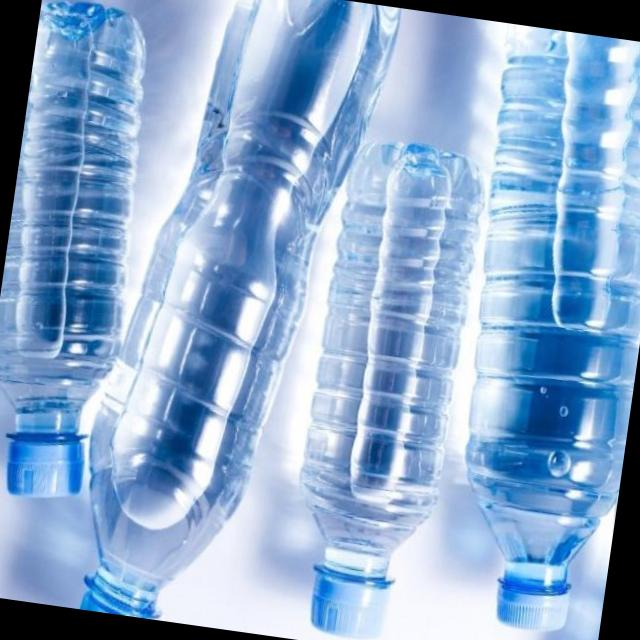BotolPlastik: (54, 0, 640, 640), (0, 0, 167, 510)
